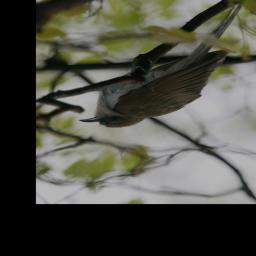Cuckoo: (80, 0, 245, 128)
